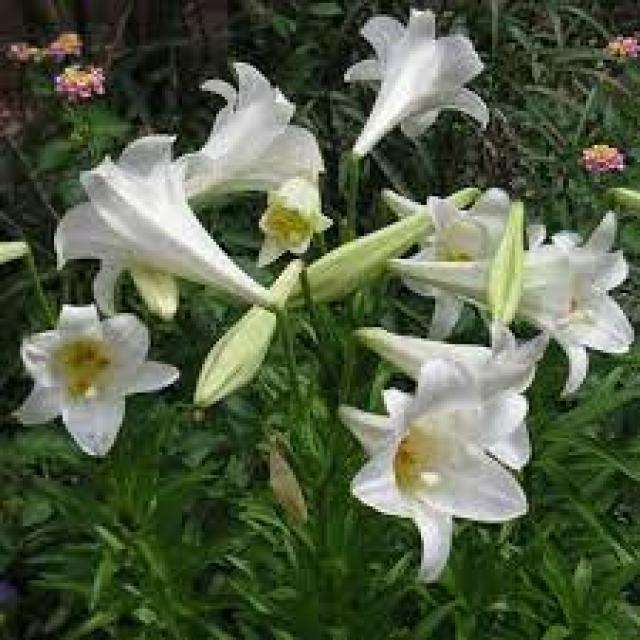lily: (48, 114, 302, 338), (335, 363, 532, 587)
